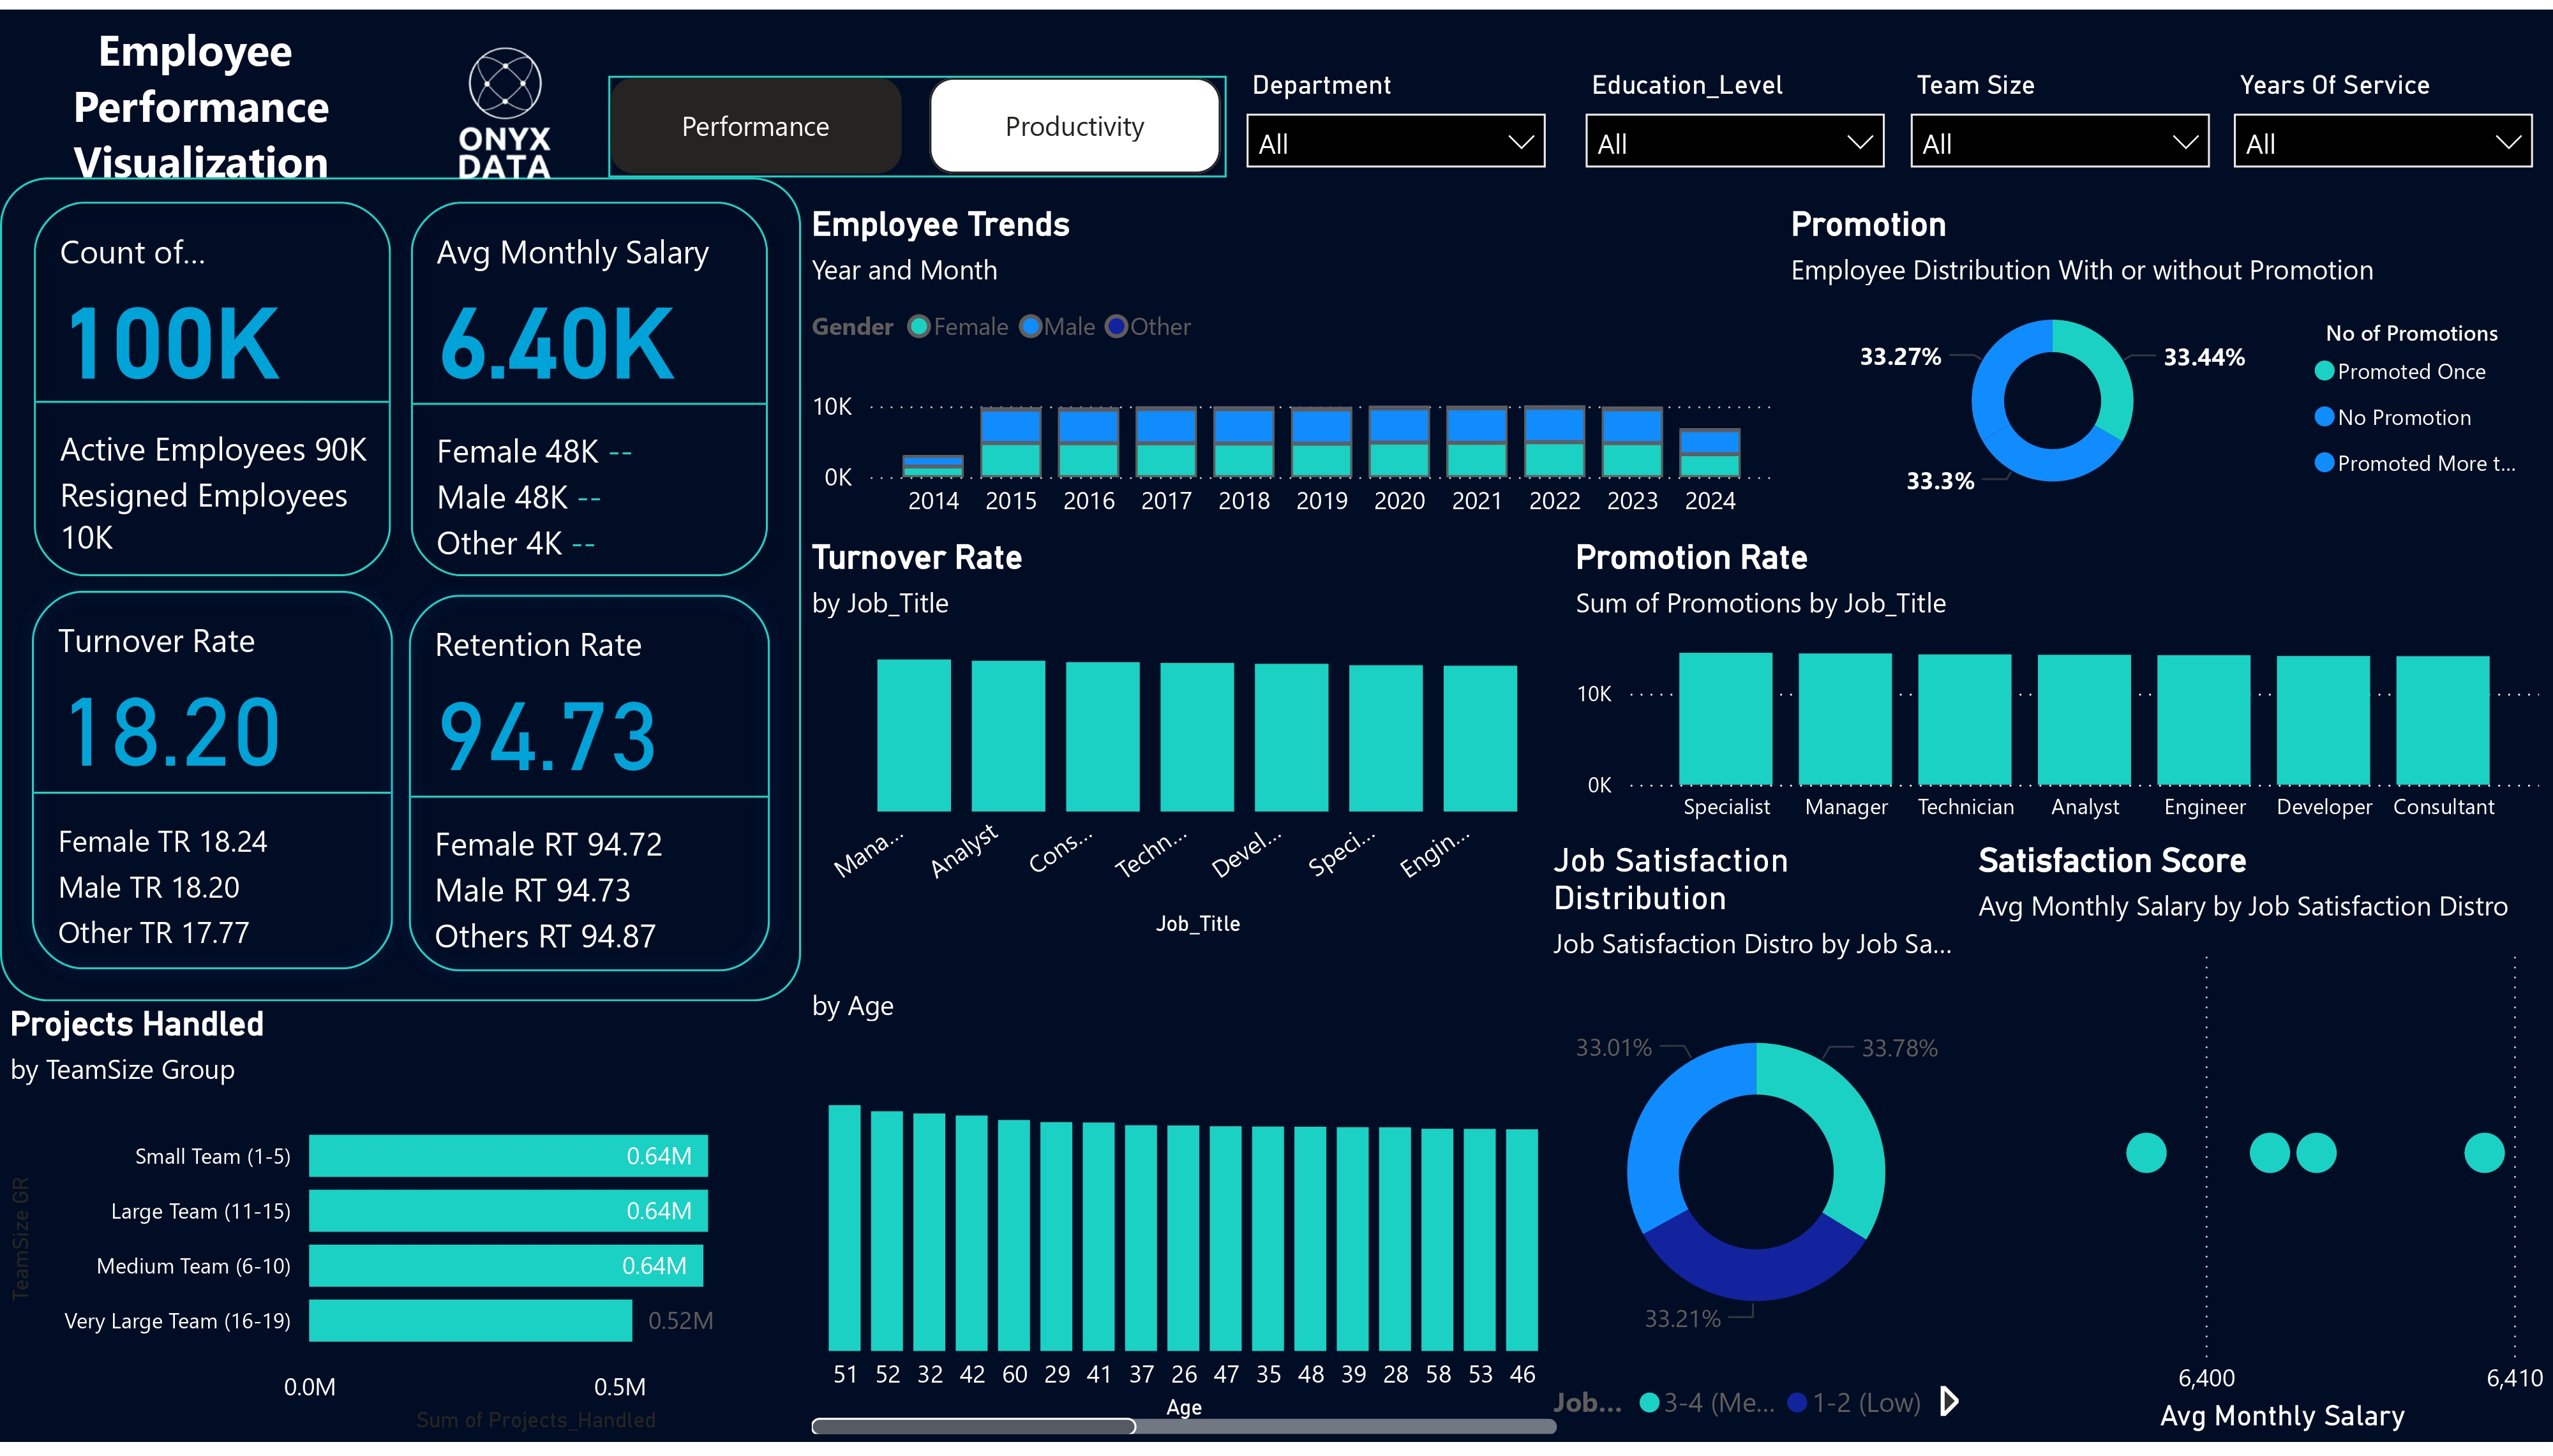

The page's visual inventory and layout, read from the dashboard file:
{"tool":"powerbi","page":{"name":"Performance","canvas":[1280,720],"ordinal":0},"visuals":[{"type":"cardVisual","fields":{"Data":["CountNonNull(Onyx Data - DataDNA Dataset Cha.Employee_ID)"]},"box":[0,78.7,213,222],"z":0},{"type":"cardVisual","fields":{"Data":["Onyx Data - DataDNA Dataset Cha.Turnover Rate"]},"box":[0,275.4,213,222],"z":1000},{"type":"barChart","title":"Projects Handled","fields":{"Category":["Onyx Data - DataDNA Dataset Cha.TeamSize GR"],"Y":["Sum(Onyx Data - DataDNA Dataset Cha.Projects_Handled)"]},"box":[0,498.4,401.6,219.7],"z":2000},{"type":"columnChart","title":"Employee Trends","fields":{"Category":["Onyx Data - DataDNA Dataset Cha.Hire_Date.Variation.Date Hierarchy.Year"],"Y":["CountNonNull(Onyx Data - DataDNA Dataset Cha.Employee_ID)"],"Series":["Onyx Data - DataDNA Dataset Cha.Gender"]},"box":[401.6,96.7,491.8,167.2],"z":3000},{"type":"columnChart","fields":{"Y":["Onyx Data - DataDNA Dataset Cha.Turnover Rate"],"Category":["Onyx Data - DataDNA Dataset Cha.Job_Title"]},"box":[401.6,263.9,383.6,204.9],"z":4000},{"type":"columnChart","fields":{"Y":["Onyx Data - DataDNA Dataset Cha.Turnover Rate"],"Category":["Onyx Data - DataDNA Dataset Cha.Age"]},"box":[401.6,485.2,383.6,234.4],"z":5000},{"type":"donutChart","title":"Job Satisfaction Distribution","fields":{"Category":["Onyx Data - DataDNA Dataset Cha.Job Satisfaction Distro"],"Y":["CountNonNull(Onyx Data - DataDNA Dataset Cha.Job Satisfaction Distro)"]},"box":[773.8,416.4,213.1,301.6],"z":6000},{"type":"columnChart","title":"Promotion Rate","fields":{"Category":["Onyx Data - DataDNA Dataset Cha.Job_Title"],"Y":["Sum(Onyx Data - DataDNA Dataset Cha.Promotions)"]},"box":[785.2,263.9,493.4,152.5],"z":7000},{"type":"slicer","fields":{"Values":["Onyx Data - DataDNA Dataset Cha.Department"]},"box":[614.8,24.6,170.5,59],"z":8000},{"type":"donutChart","title":"Promotion","fields":{"Category":["Onyx Data - DataDNA Dataset Cha.Number of Promotions"],"Y":["CountNonNull(Onyx Data - DataDNA Dataset Cha.Number of Promotions)"]},"box":[893.4,96.7,385.2,155.7],"z":9000},{"type":"scatterChart","title":"Satisfaction Score","fields":{"Category":["Onyx Data - DataDNA Dataset Cha.Job Satisfaction Distro"],"X":["Onyx Data - DataDNA Dataset Cha.Avg Monthly Salary"]},"box":[986.9,416.4,293.4,301.6],"z":10000},{"type":"textbox","box":[0,0,201.6,96.7],"z":11000},{"type":"slicer","fields":{"Values":["Onyx Data - DataDNA Dataset Cha.Education_Level"]},"box":[785.2,24.6,170.5,59],"z":12000},{"type":"slicer","fields":{"Values":["Onyx Data - DataDNA Dataset Cha.Years_At_Company"]},"box":[1109.8,24.6,170.5,59],"z":13000},{"type":"slicer","fields":{"Values":["Onyx Data - DataDNA Dataset Cha.TeamSize GR"]},"box":[947.5,24.6,170.5,59],"z":14000},{"type":"cardVisual","fields":{"Data":["Onyx Data - DataDNA Dataset Cha.Avg Monthly Salary"]},"box":[188.5,78.7,213.1,223],"z":15000},{"type":"cardVisual","fields":{"Data":["Onyx Data - DataDNA Dataset Cha.Retention Rate"]},"box":[188.5,277,213.1,221.3],"z":16000},{"type":"shape","box":[0,83.6,401.6,413.1],"z":17000},{"type":"image","box":[201.6,0,103.3,103.3],"z":18000},{"type":"pageNavigator","box":[304.9,32.8,309.8,50.8],"z":19000}]}

Visuals, with their boxes in screenshot pixels (x1, y1, x2, y2), scaled from the page's 1280x720 canvas onto the 2553x1456 screenshot:
cardVisual - CountNonNull(Onyx Data - DataDNA Dataset Cha.Employee_ID): (0, 159, 425, 608)
cardVisual - Onyx Data - DataDNA Dataset Cha.Turnover Rate: (0, 557, 425, 1006)
"Projects Handled" barChart: (0, 1008, 801, 1452)
"Employee Trends" columnChart: (801, 195, 1782, 533)
columnChart - Onyx Data - DataDNA Dataset Cha.Turnover Rate x Onyx Data - DataDNA Dataset Cha.Job_Title: (801, 533, 1566, 948)
columnChart - Onyx Data - DataDNA Dataset Cha.Turnover Rate x Onyx Data - DataDNA Dataset Cha.Age: (801, 981, 1566, 1455)
"Job Satisfaction Distribution" donutChart: (1543, 842, 1968, 1452)
"Promotion Rate" columnChart: (1566, 533, 2550, 842)
slicer - Onyx Data - DataDNA Dataset Cha.Department: (1226, 50, 1566, 169)
"Promotion" donutChart: (1782, 195, 2550, 510)
"Satisfaction Score" scatterChart: (1968, 842, 2552, 1452)
textbox: (0, 0, 402, 195)
slicer - Onyx Data - DataDNA Dataset Cha.Education_Level: (1566, 50, 1906, 169)
slicer - Onyx Data - DataDNA Dataset Cha.Years_At_Company: (2213, 50, 2552, 169)
slicer - Onyx Data - DataDNA Dataset Cha.TeamSize GR: (1890, 50, 2230, 169)
cardVisual - Onyx Data - DataDNA Dataset Cha.Avg Monthly Salary: (376, 159, 801, 610)
cardVisual - Onyx Data - DataDNA Dataset Cha.Retention Rate: (376, 560, 801, 1007)
shape: (0, 169, 801, 1004)
image: (402, 0, 608, 209)
pageNavigator: (608, 66, 1226, 169)
